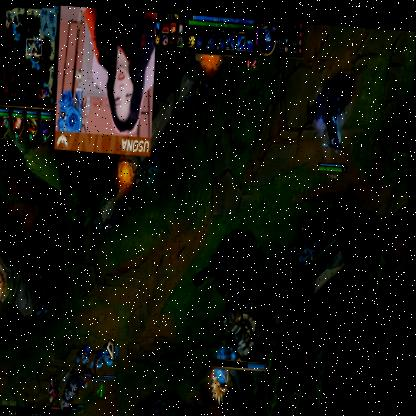streamer: (69, 4, 156, 131)
